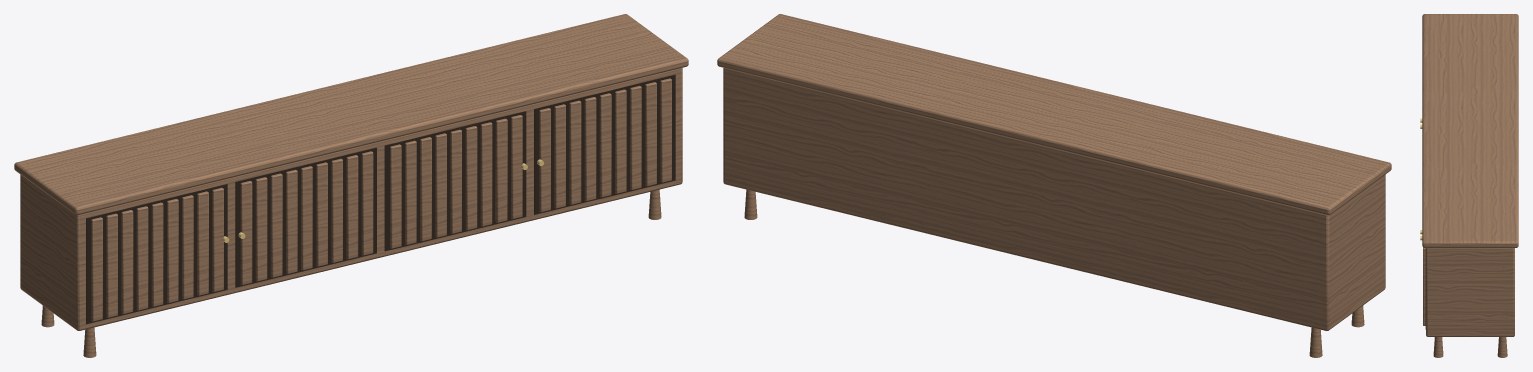
Rendered from sideboard.glb.
3 views of the same model, side by side, from view 1: azimuth 30°, elevation 25°; view 2: azimuth 150°, elevation 25°; view 3: azimuth 270°, elevation 25° (orthographic). The views are drawn at different scales.
Visible parts, largest first — view 1: black_walnut_veneer_02, cabinet_inset; view 2: black_walnut_veneer_02; view 3: black_walnut_veneer_02.
Boxes of the visible parts, <box> form: black_walnut_veneer_02: <box>14,14,688,357</box>; cabinet_inset: <box>86,74,675,324</box>; black_walnut_veneer_02: <box>717,14,1391,357</box>; black_walnut_veneer_02: <box>1422,14,1518,357</box>.
Size of the model in its own units: 3.04 by 0.76 by 0.5521.
Materials: 3 (1 with a texture image).
